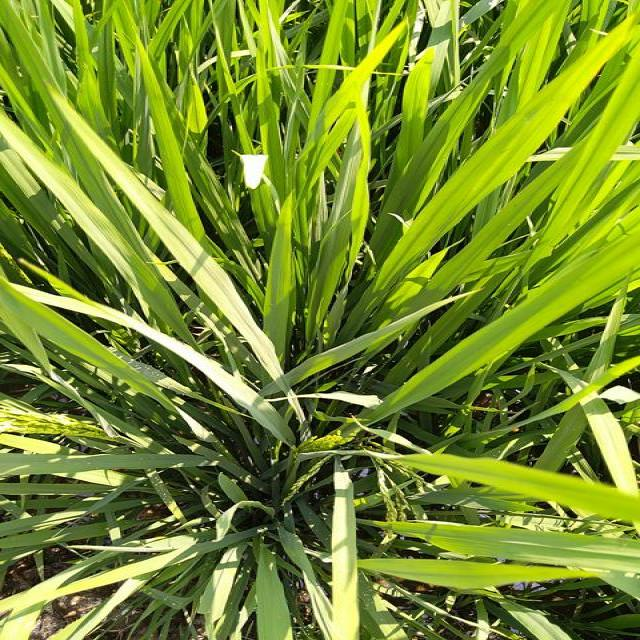Rice: (354, 227, 640, 427), (470, 0, 640, 226), (0, 279, 182, 416), (340, 445, 640, 511), (132, 26, 210, 242), (372, 510, 640, 570), (368, 556, 594, 609), (381, 103, 473, 227), (308, 123, 358, 340), (0, 451, 227, 482), (250, 45, 296, 192), (243, 542, 293, 640), (261, 194, 292, 347), (398, 47, 421, 169)
